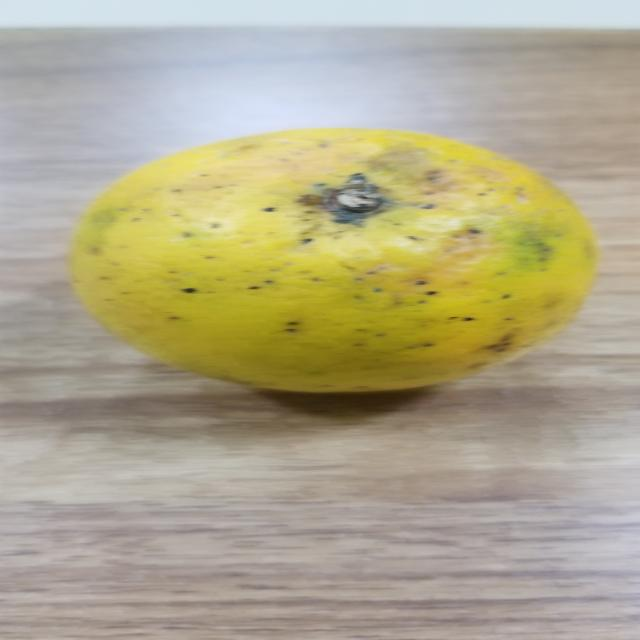Ripe orange: (62, 112, 598, 412)
